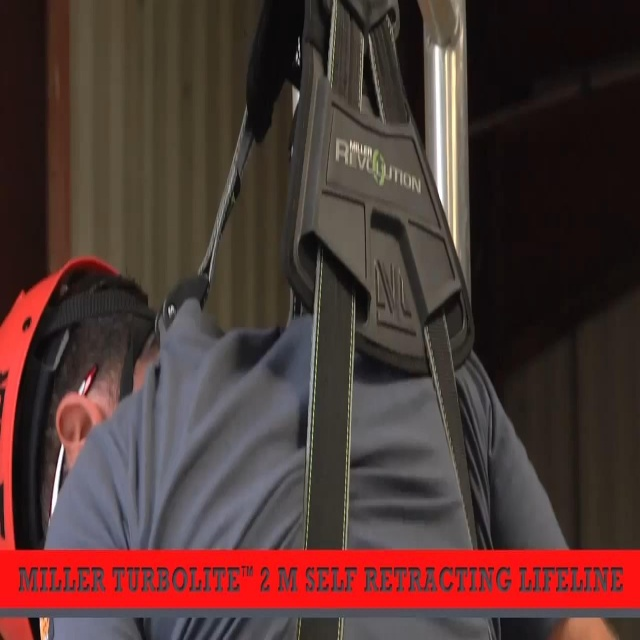Arnes_seguridad: (199, 0, 541, 640)
